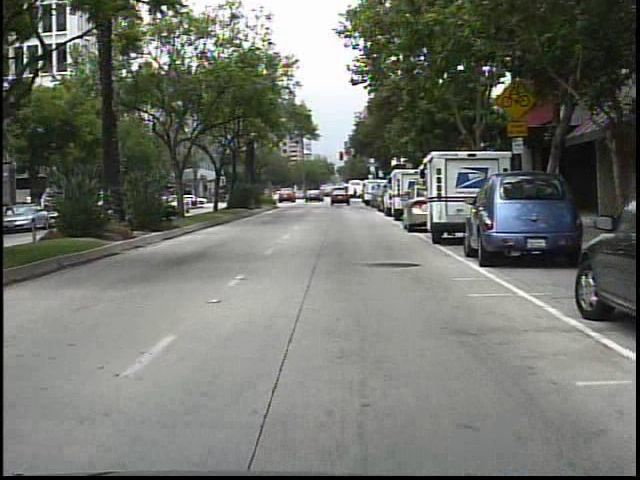person: (352, 183, 360, 204)
